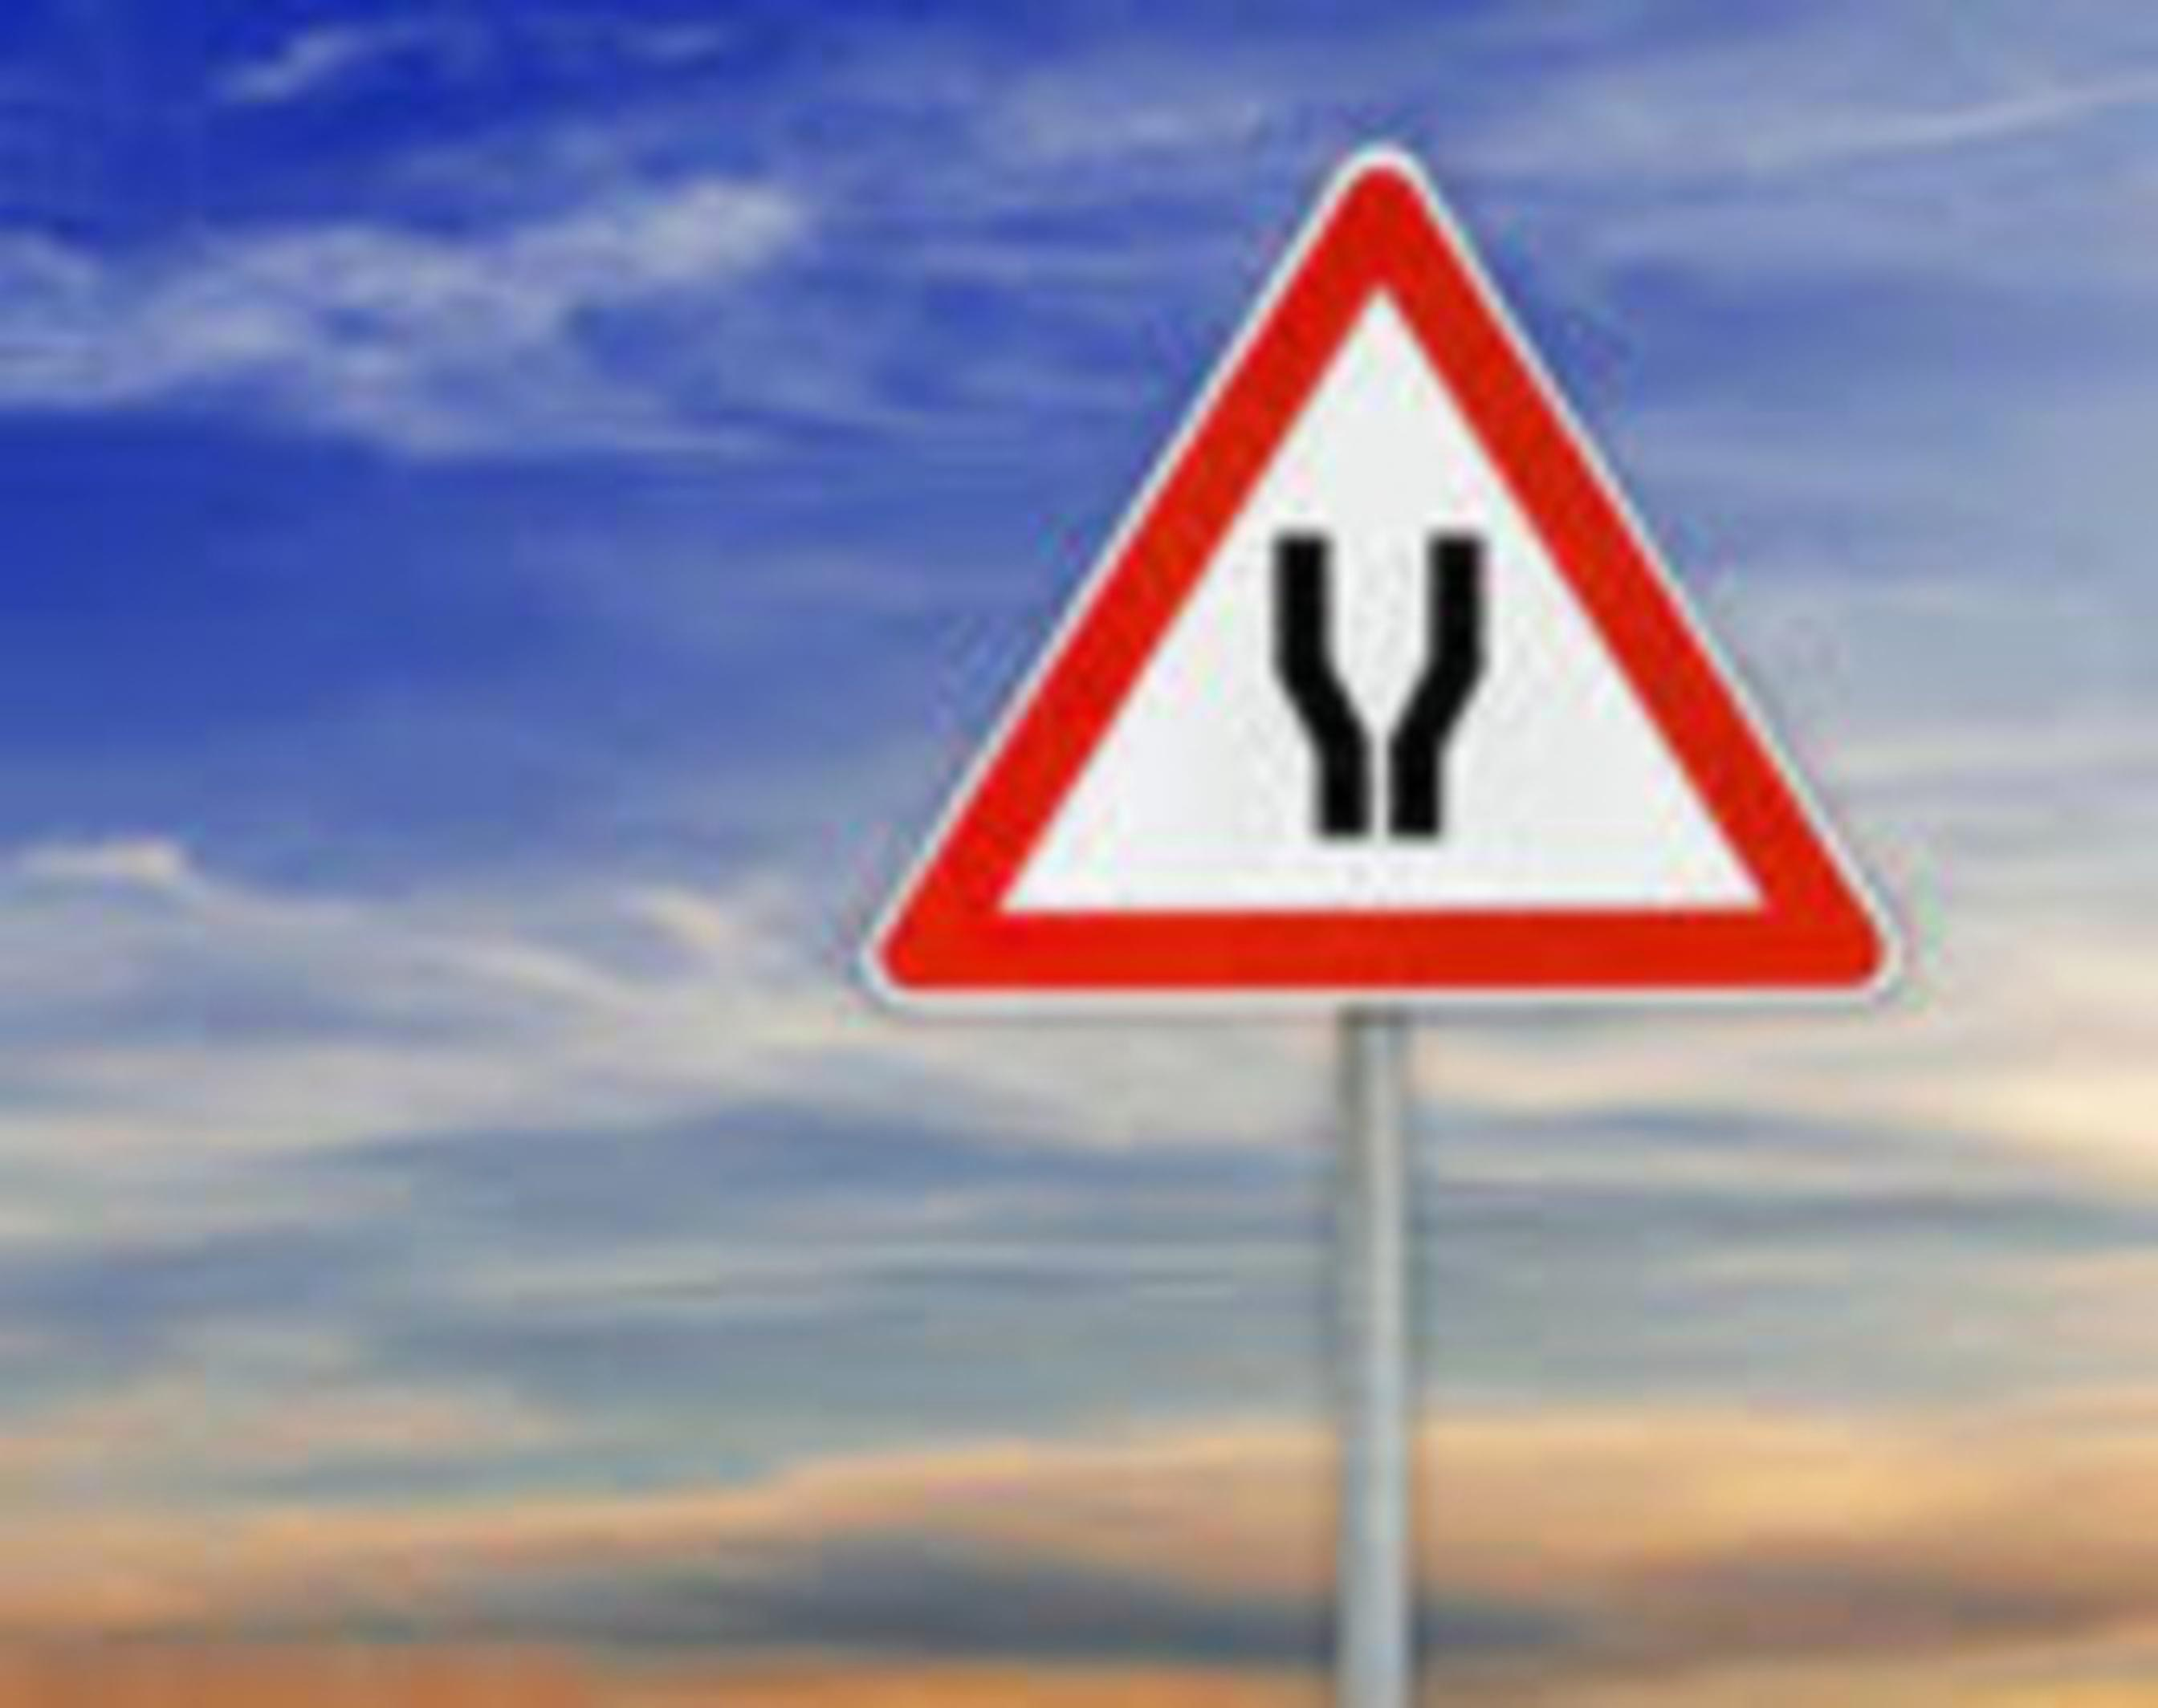narrow_road: (843, 130, 1927, 1023)
